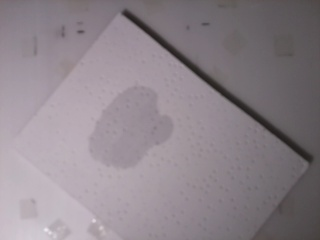Water_detected: (102, 94, 163, 163)
